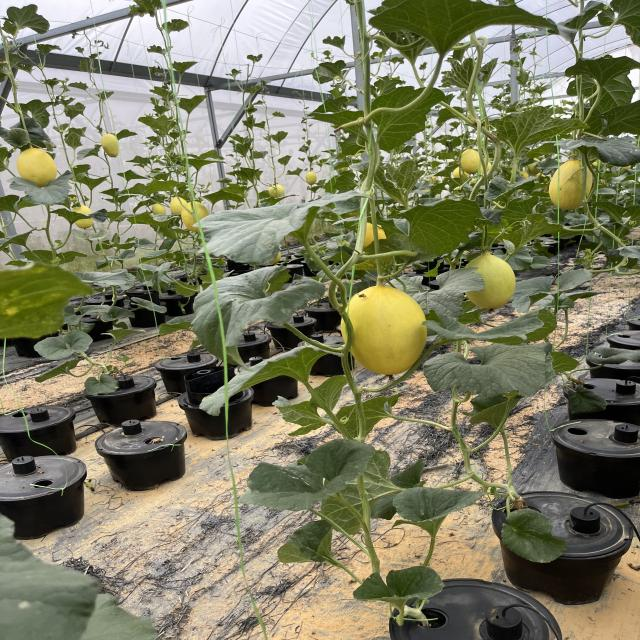SLCV: (496, 106, 591, 154), (441, 57, 499, 94)
healthy: (188, 265, 325, 357), (368, 0, 560, 56), (198, 202, 314, 265), (423, 344, 556, 396), (387, 199, 481, 258), (385, 266, 485, 318), (422, 306, 557, 344), (393, 488, 486, 523)
powdery mildew: (240, 442, 373, 511), (500, 509, 568, 564), (353, 566, 444, 606), (34, 330, 92, 361)
